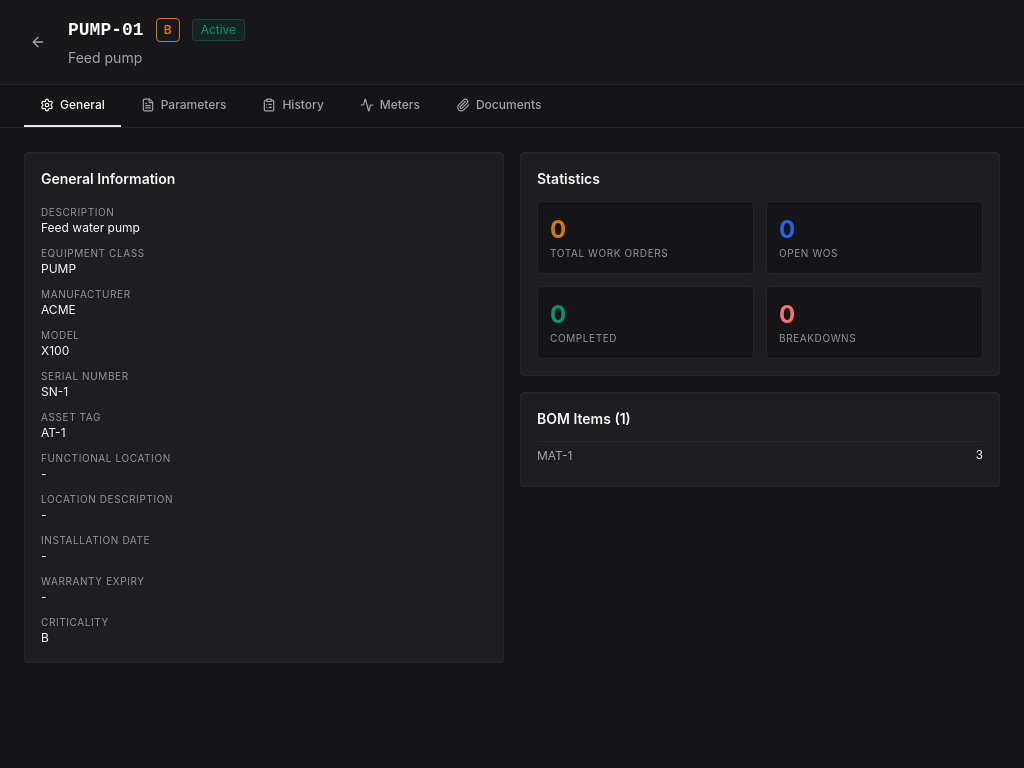
EquipmentDetailPage BOM editing (SOW 3.1.2) › offers the document upload to a Requester
What coordinates should you click on to do the following:
click the button "Documents"
I would click on:
 (499, 106)
Its box is [440, 85, 557, 127].
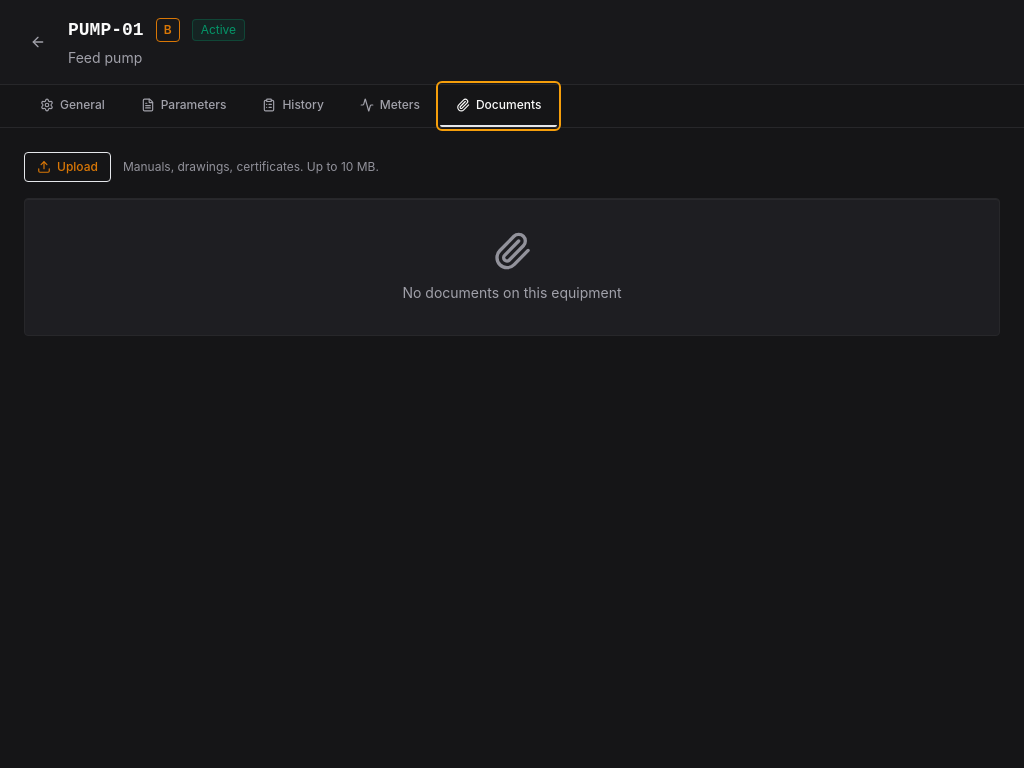
Expected: the button "Upload" is shown, [24, 152, 111, 182]
